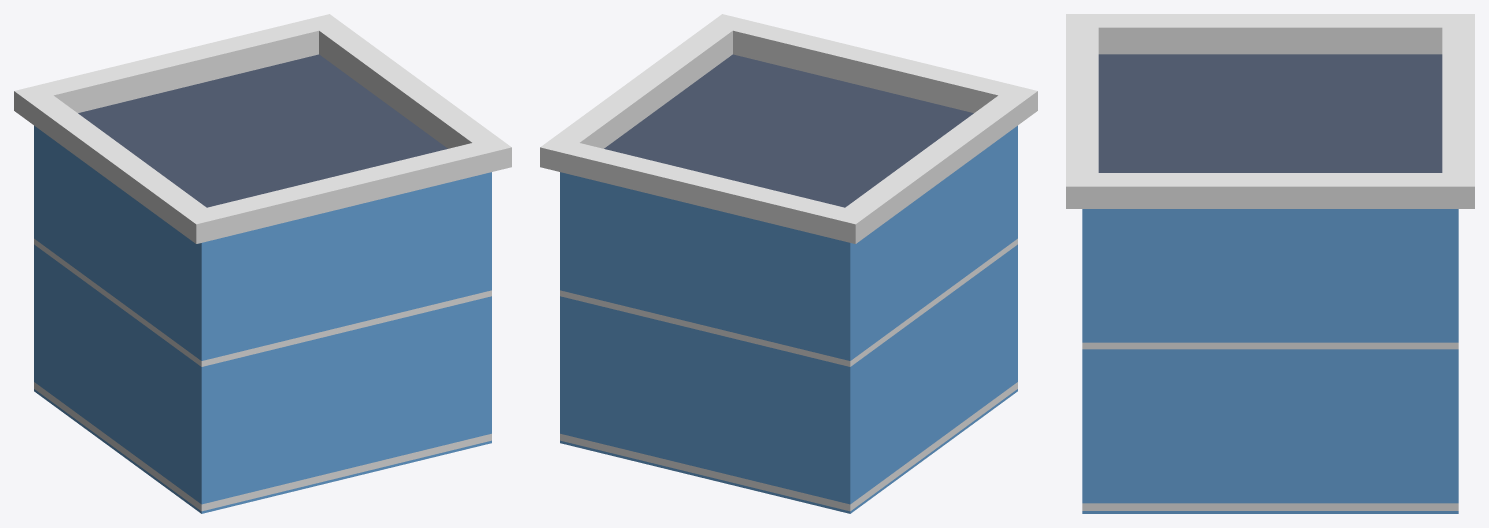
The model's file is building_1x1_6_r.glb.
The picture shows the model from 3 angles, left to right: view 1: azimuth 30°, elevation 25°; view 2: azimuth 150°, elevation 25°; view 3: azimuth 270°, elevation 25°; orthographic projection. The views are drawn at different scales.
Parts seen in each view (by area): view 1: Cube.002; view 2: Cube.002; view 3: Cube.002.
Boxes of the visible parts, bbox=[...] form: Cube.002: bbox=[14, 14, 511, 513]; Cube.002: bbox=[540, 14, 1037, 513]; Cube.002: bbox=[1066, 14, 1474, 513].
Size of the model in its own units: 1.83 by 1.65 by 1.83.
